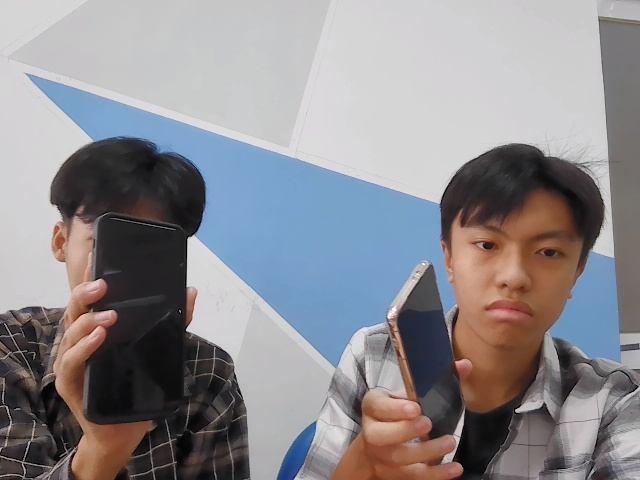human: (442, 140, 601, 347)
phone: (92, 212, 187, 426), (385, 255, 475, 445)
